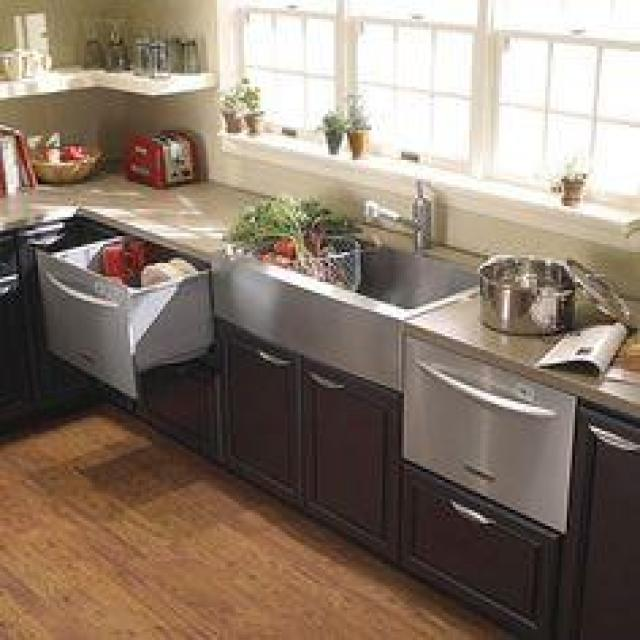dishwasher: (401, 324, 575, 536), (32, 239, 212, 399)
